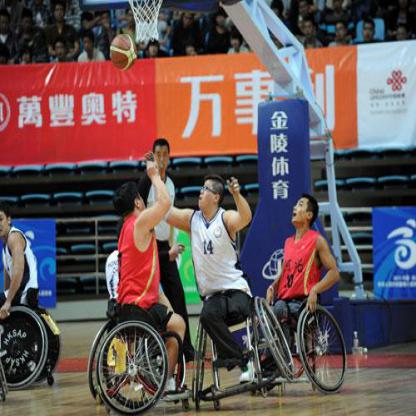wheelchair: (147, 164, 293, 402), (87, 175, 188, 409), (260, 189, 348, 397), (0, 202, 63, 399)
